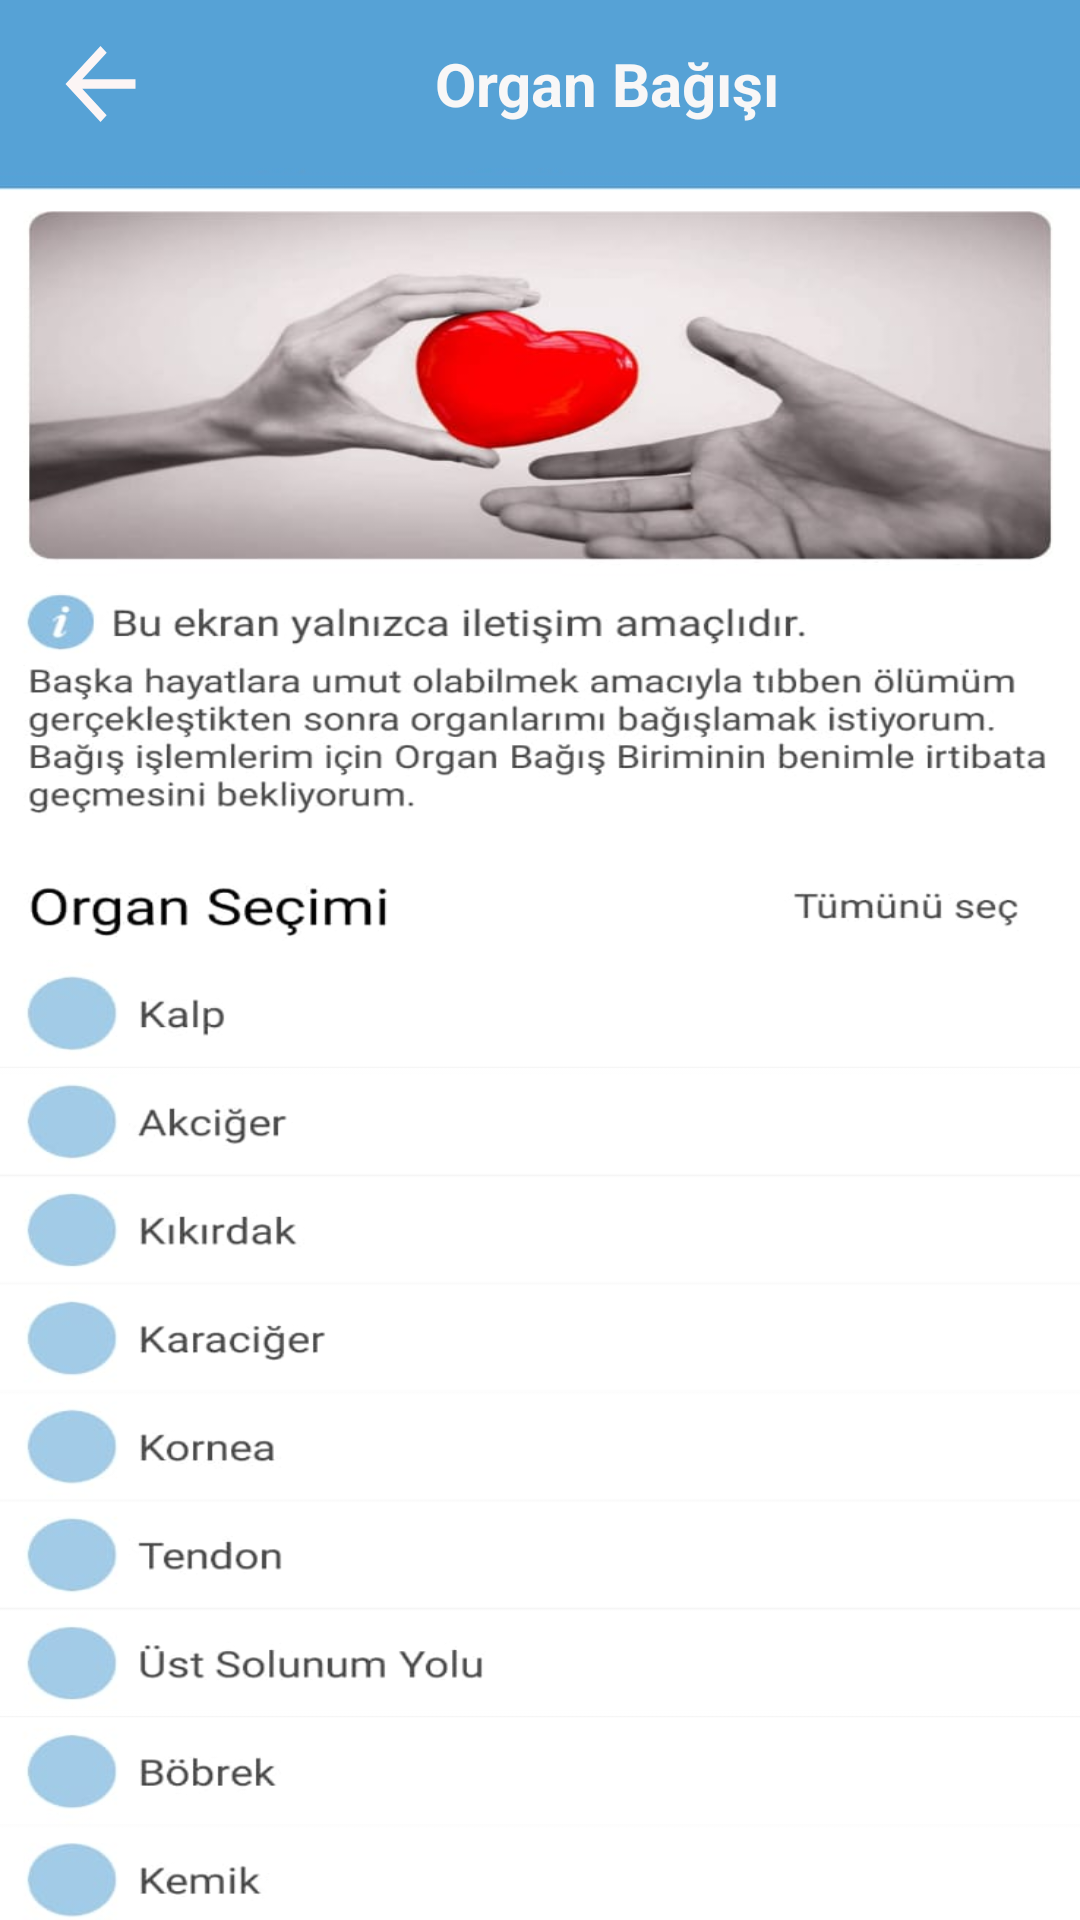

Icon click points for this 1080px×1920px phone screenshot, format point (x, y):
arrow back: point (101, 84)
